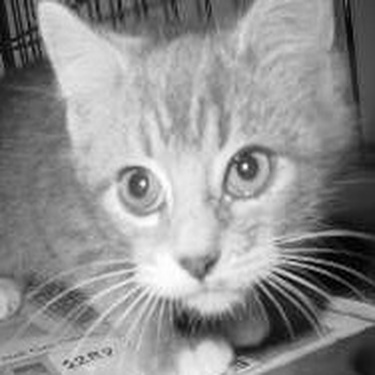cat: (2, 9, 359, 360)
